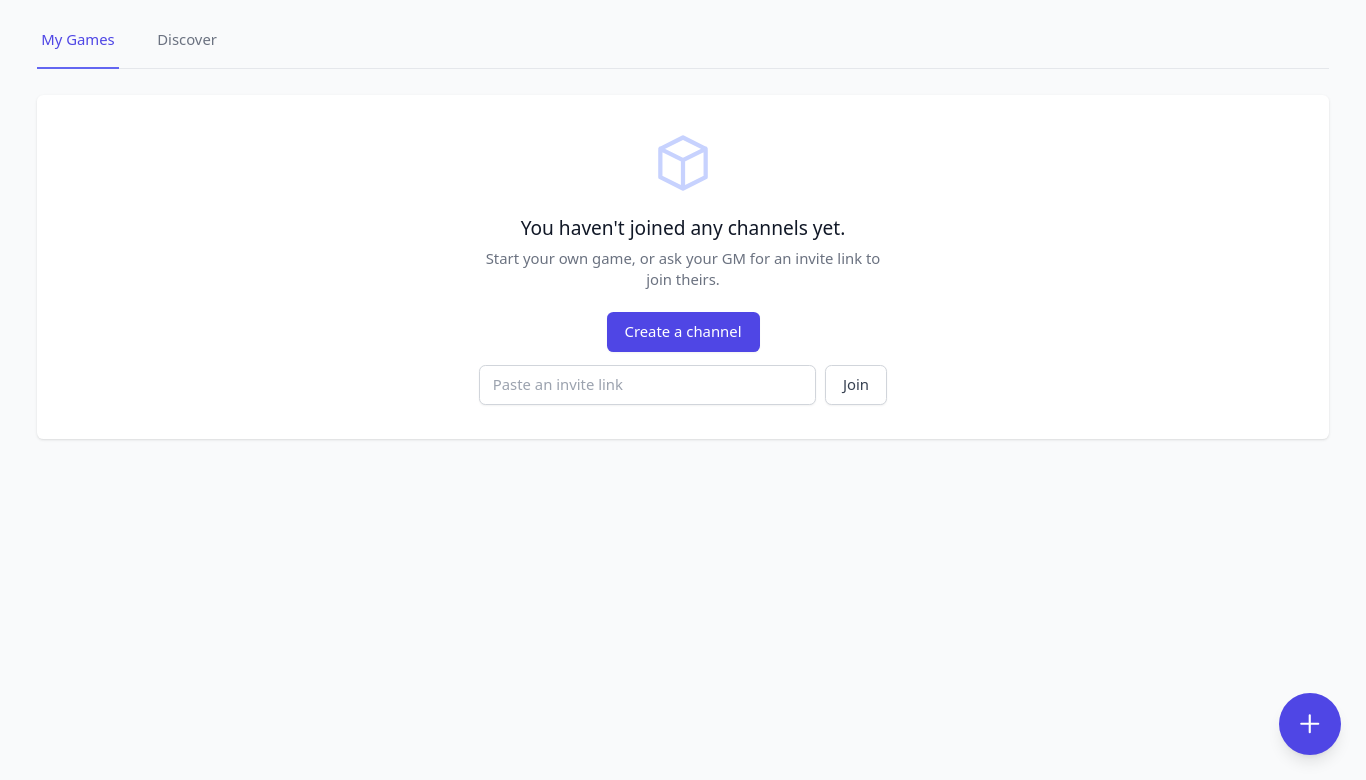
it: Lobby › empty state rejects an invalid invite link
Type "not-a-link" into the field labelled "Paste an invite link".
click(648, 385); type("not-a-link")  # box [479,364,816,405]
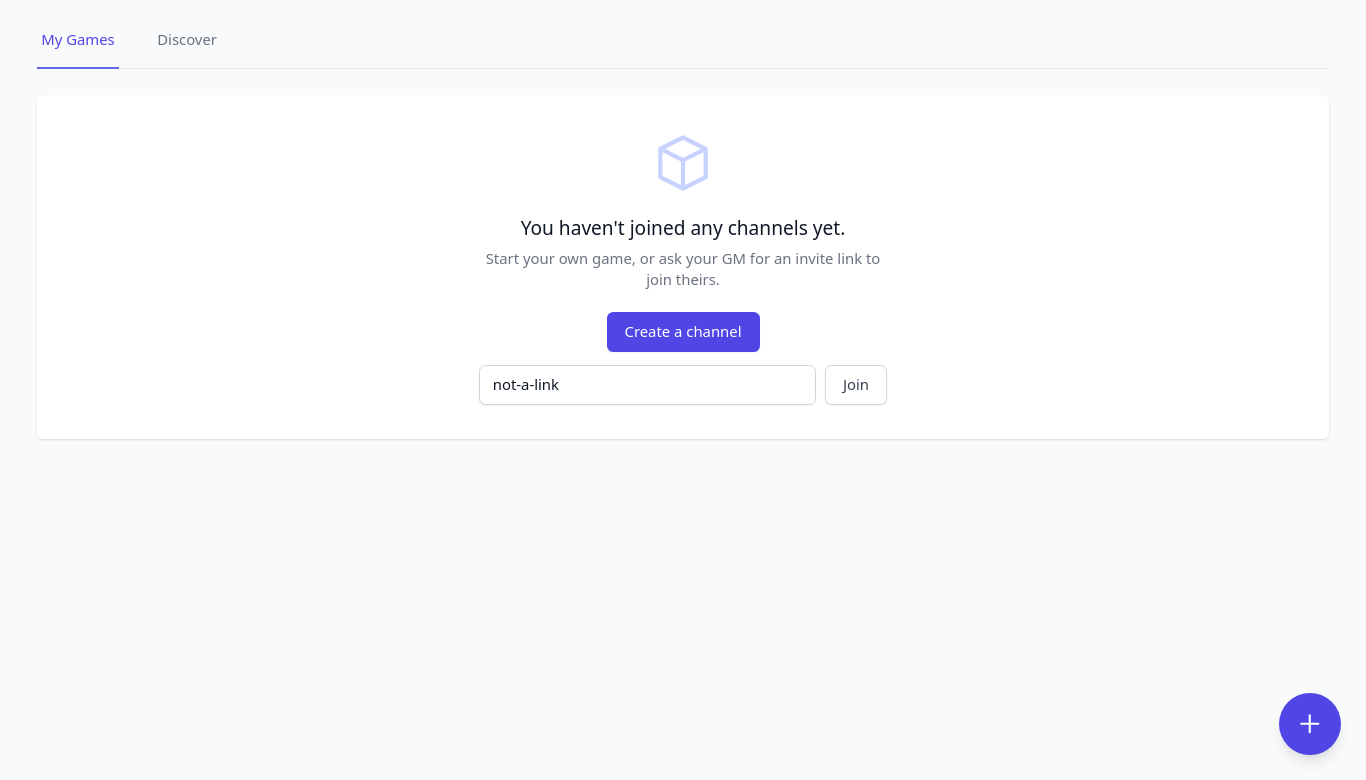
Submit the form named "Paste an invite link", box [479,364,887,405]
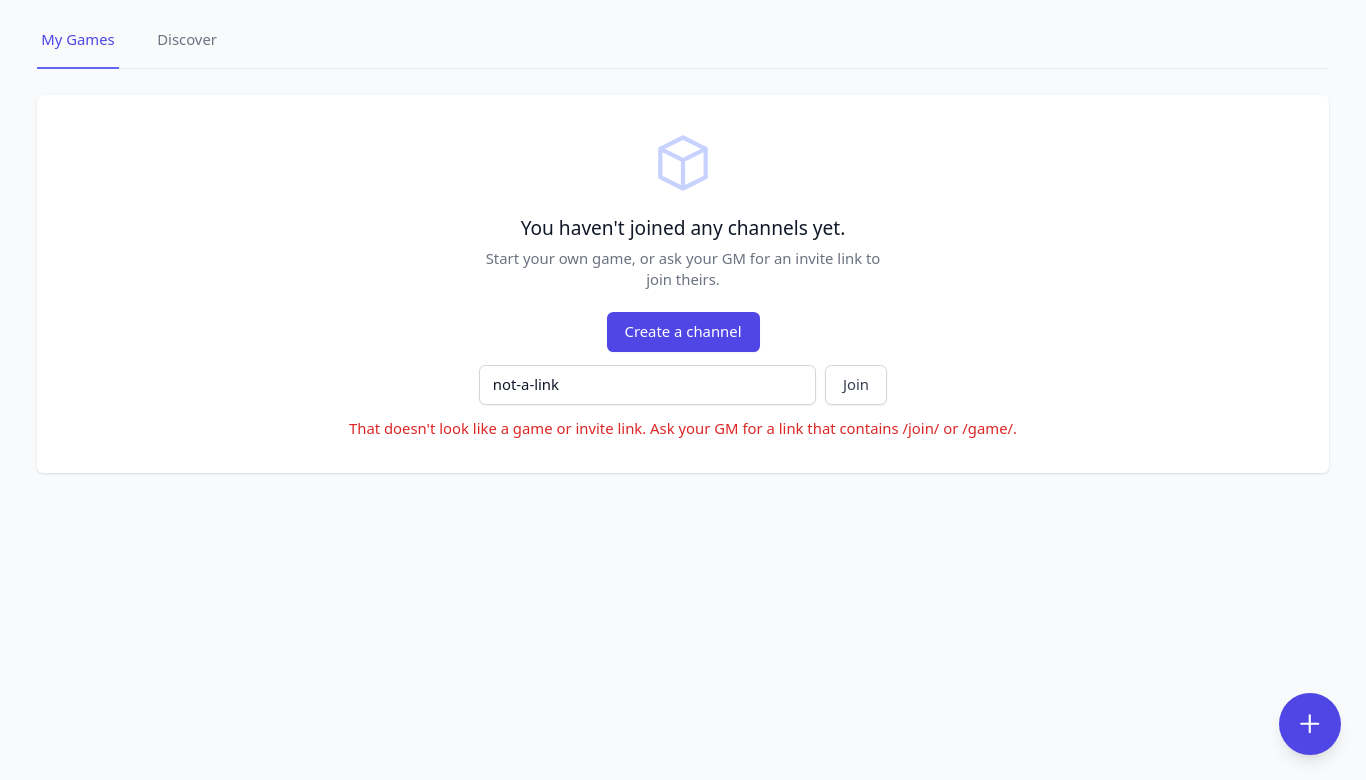
Now the message shows "game or invite link", box [349,418,1017,438]
